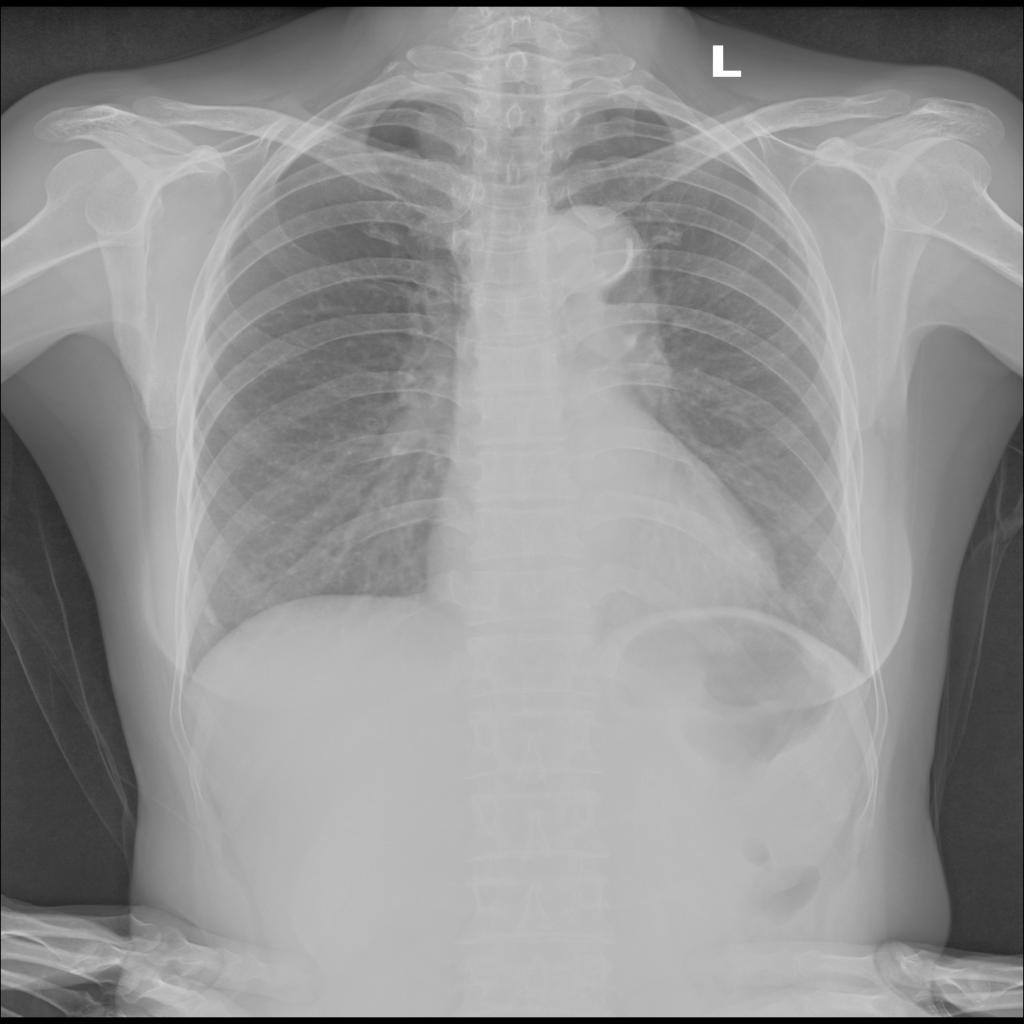Nodule: (415, 106, 475, 171)
